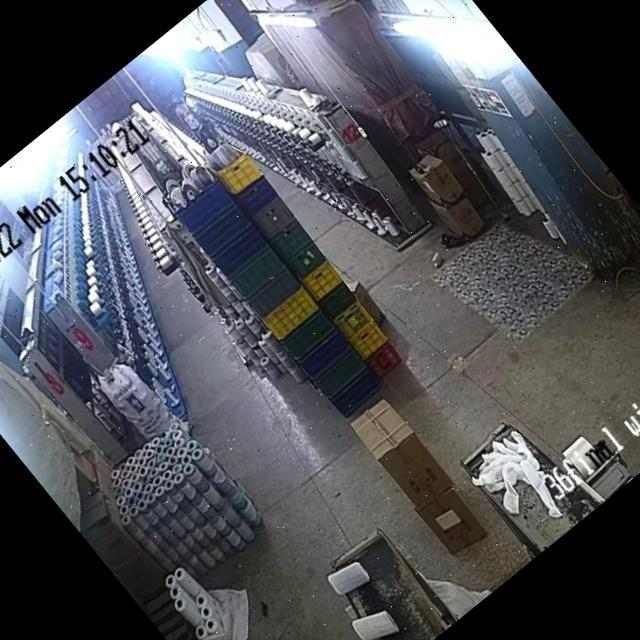person: (164, 87, 214, 144)
